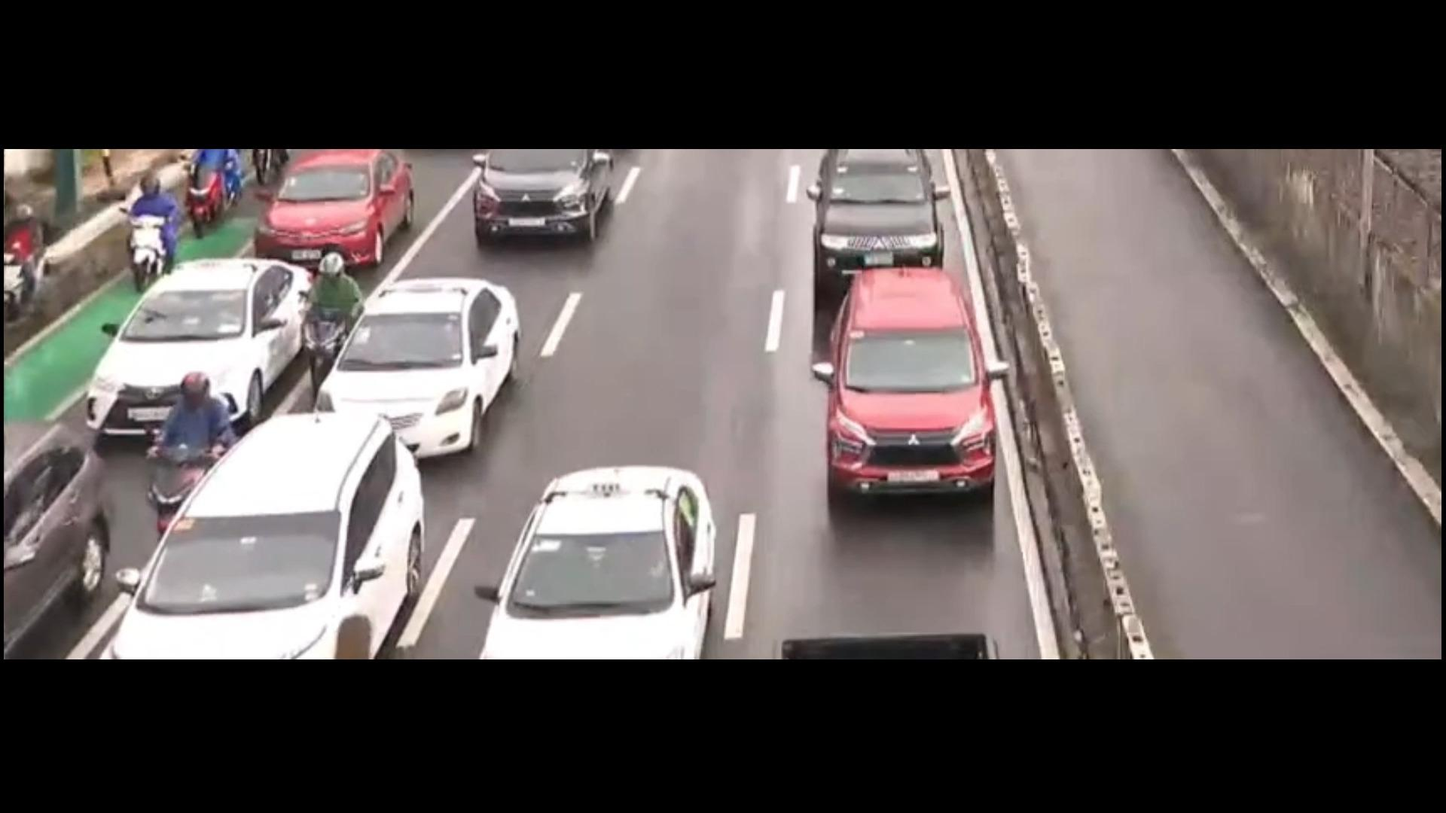Motorcycle: (139, 365, 239, 518), (297, 254, 360, 386), (117, 167, 185, 284), (181, 149, 258, 237)
SUV: (117, 418, 422, 655), (817, 263, 998, 506), (0, 431, 104, 629), (815, 147, 945, 284), (463, 145, 625, 248)
Sedan: (473, 478, 723, 659), (309, 271, 520, 457), (94, 262, 309, 427), (247, 145, 422, 258)
